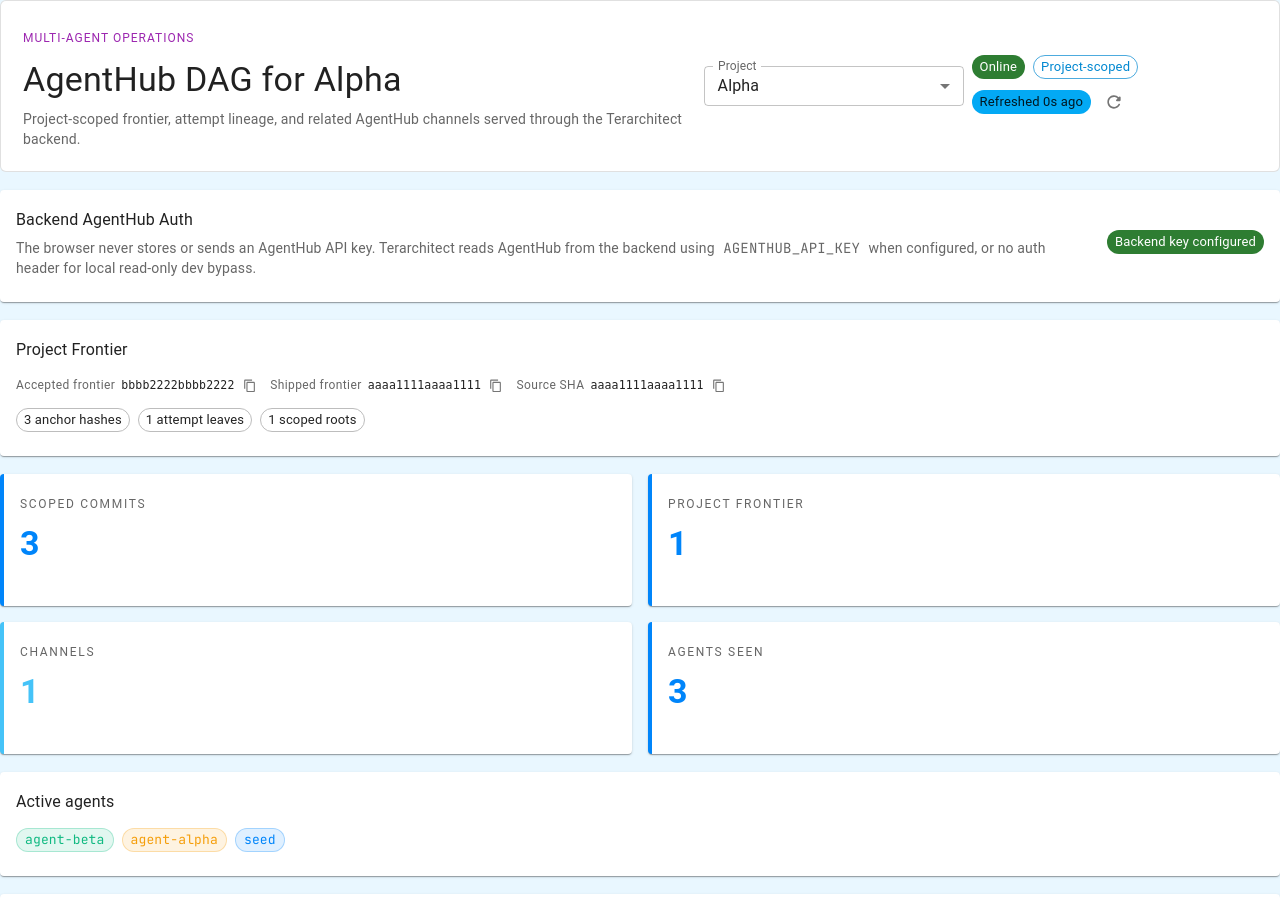
it: AgenthubPage › switches projects and reloads the scoped graph through the backend api client
The image size is (1280, 900).
Expected: the heading "AgentHub DAG for Alpha" is shown, [23,59,402,99]
Press the mouse on the dropdown named "project" at point(738, 86), box [718,76,759,96]
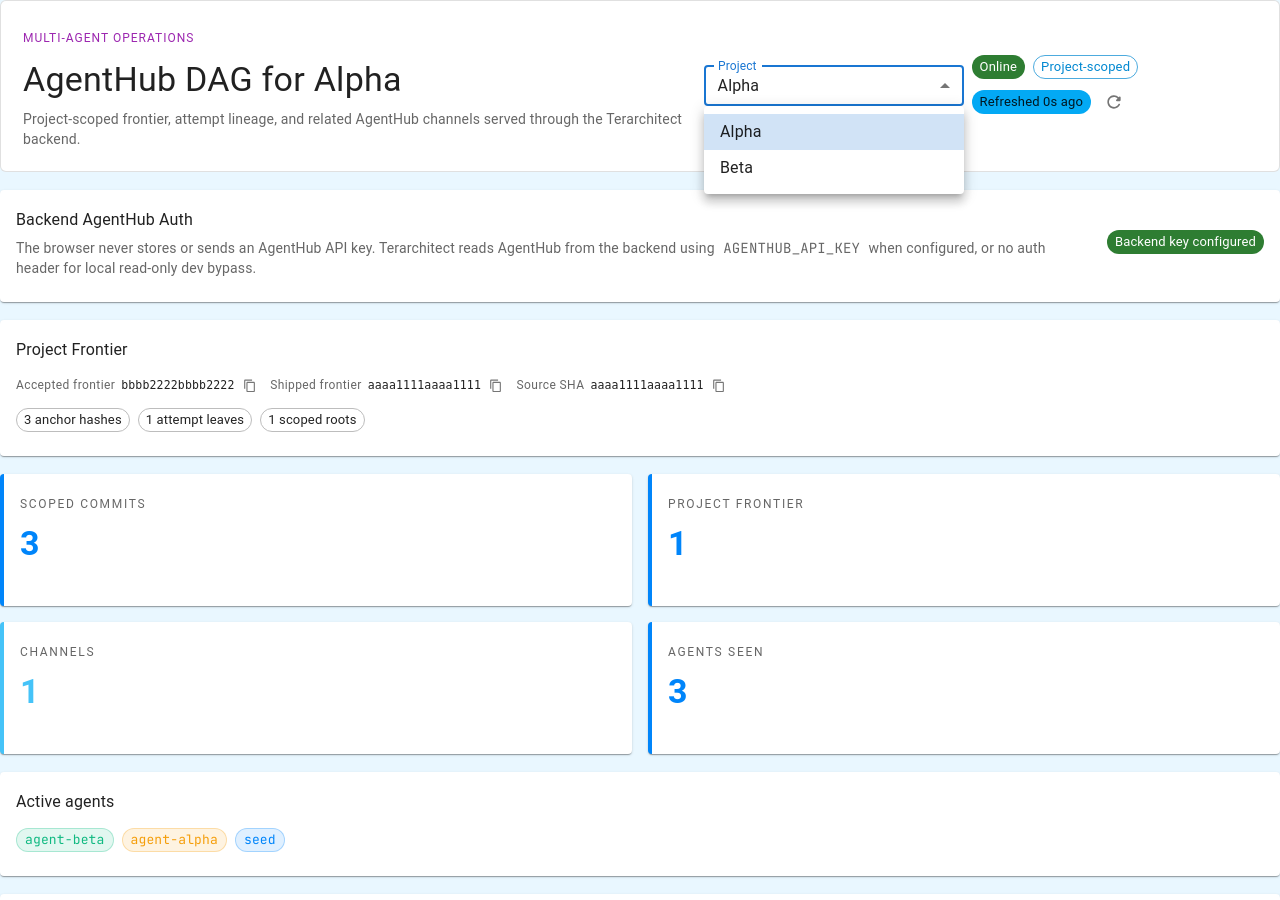
Click the option "Beta" at point(736, 168), box [720,158,753,177]
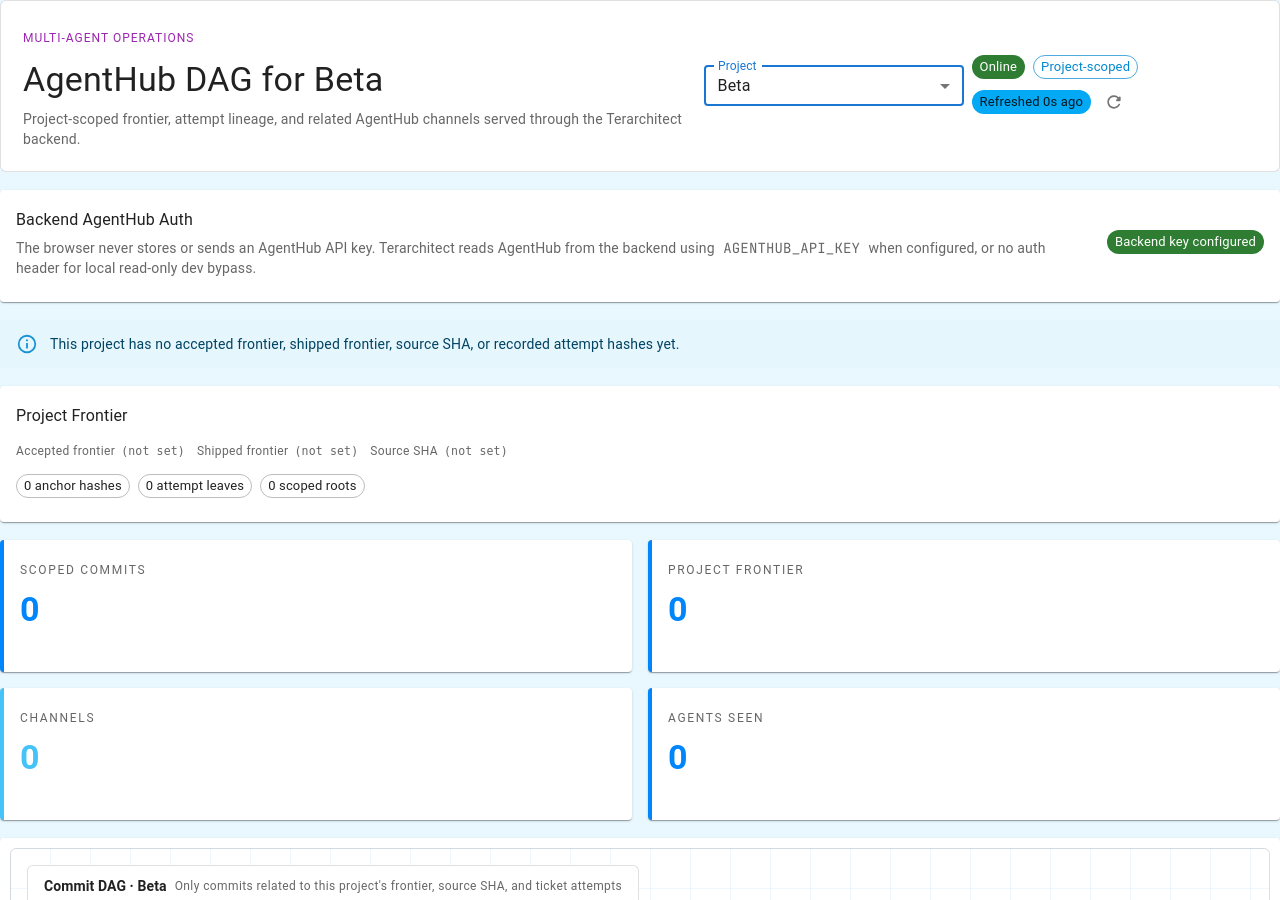
Result: the text "This project has no accepted frontier" is shown at [50,336,680,352]
